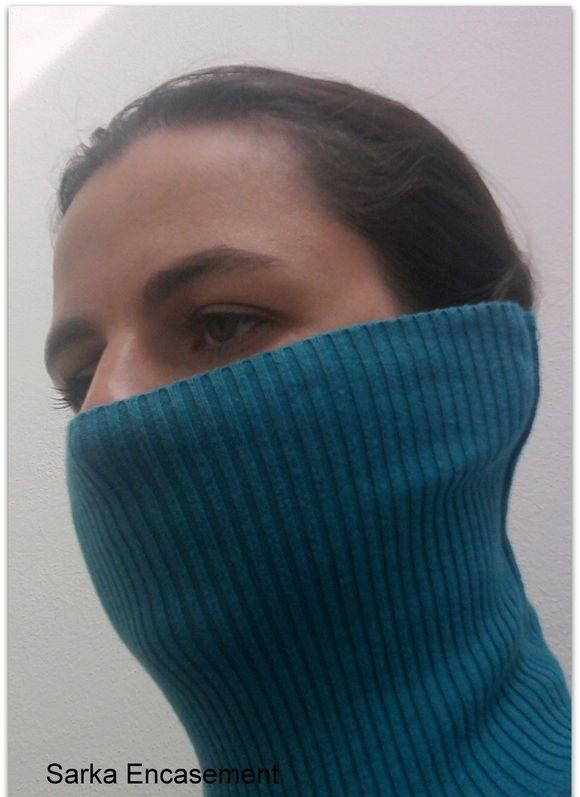OK: (42, 250, 405, 613)
